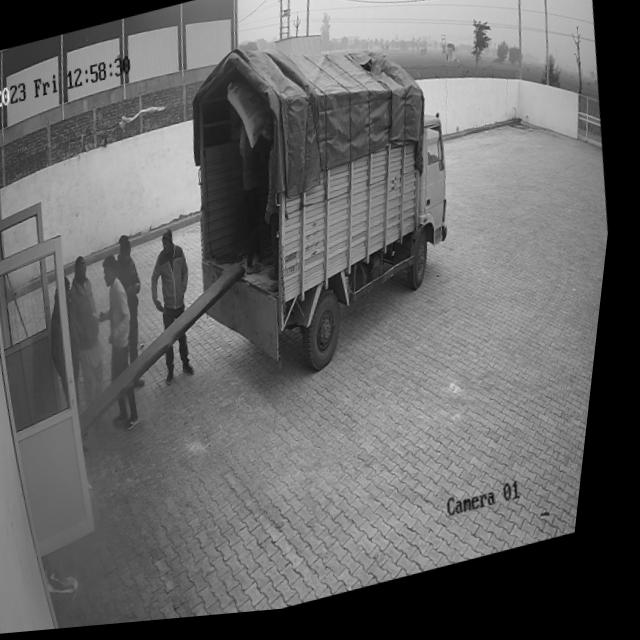sack: (220, 76, 279, 159)
